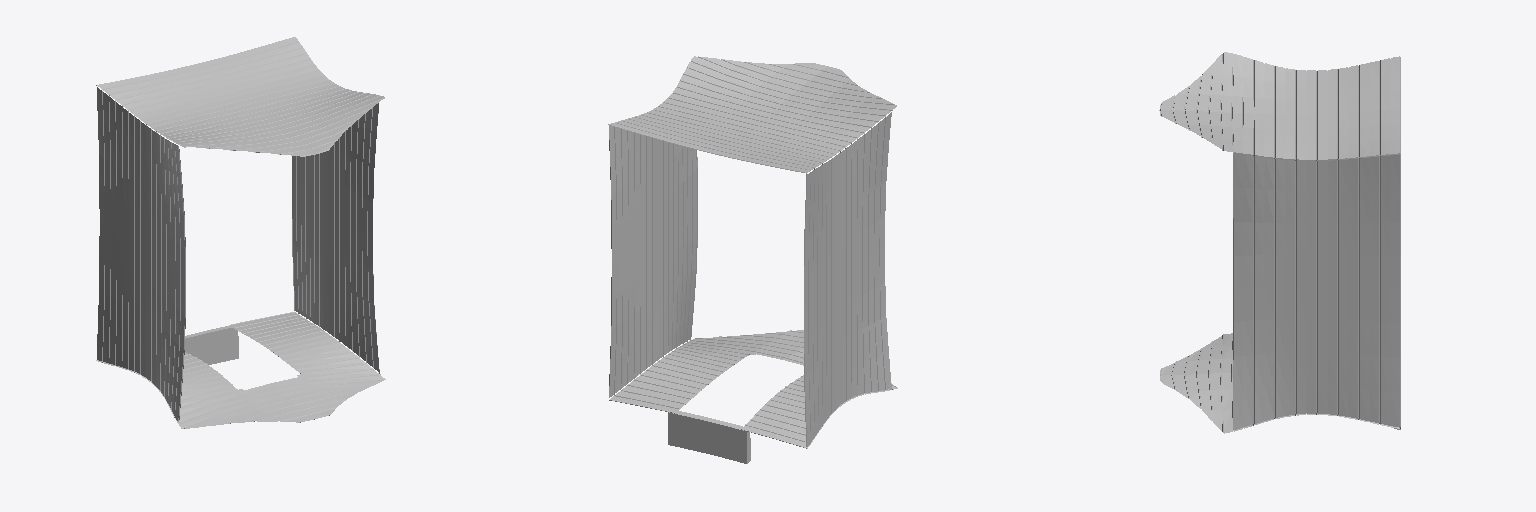
The model's file is walls.obj.
3 renders of one model, left to right at view 1: azimuth 30°, elevation 25°; view 2: azimuth 150°, elevation 25°; view 3: azimuth 270°, elevation 25°, orthographic.
Bounding box in the file's own units: 3.37 × 4.88 × 3.45.